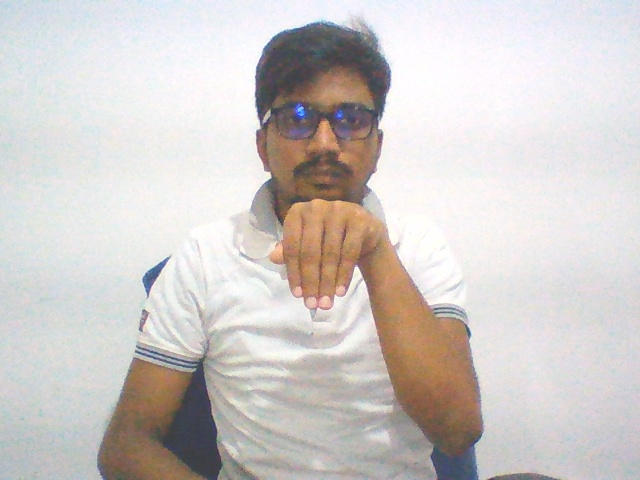Squirrel: (267, 194, 393, 325)
